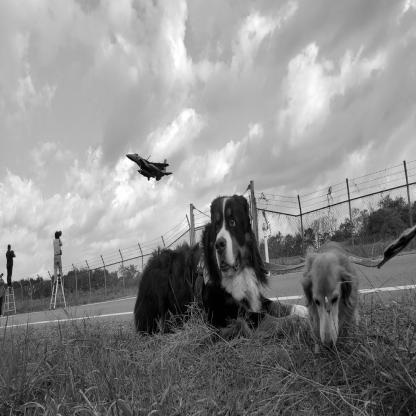F15: (126, 153, 174, 182)
